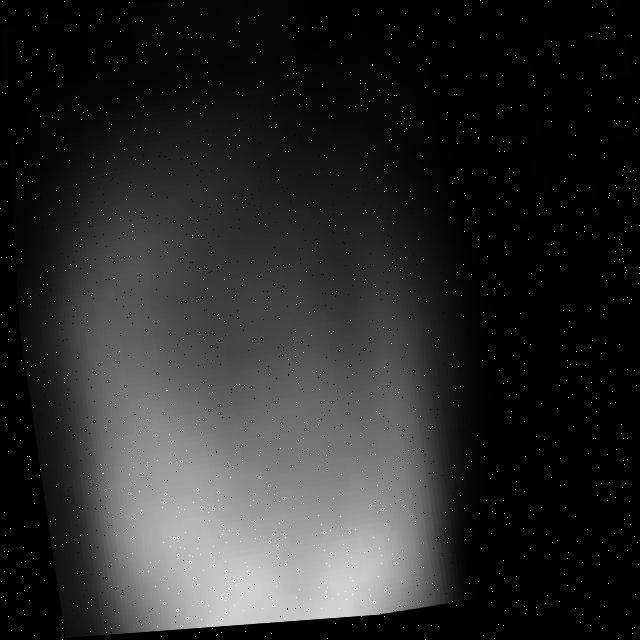person: (10, 108, 528, 640)
